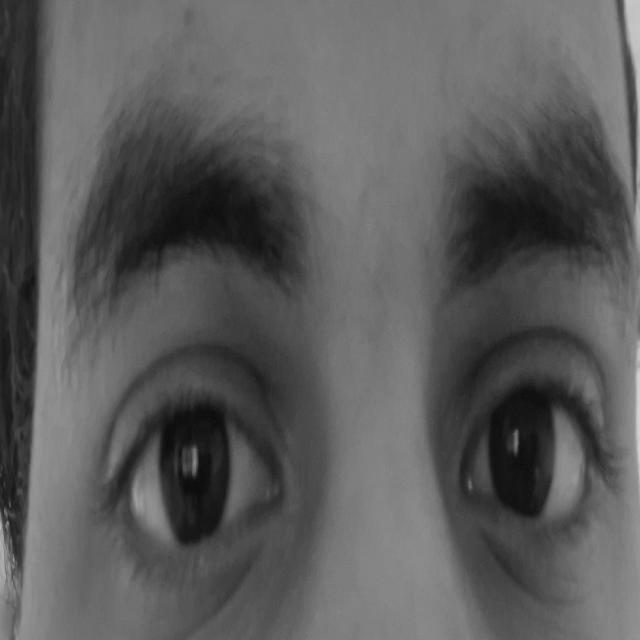real: (73, 152, 630, 628)
